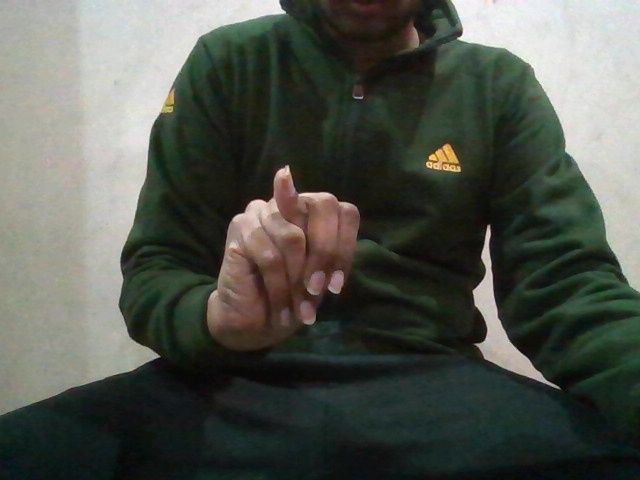N: (212, 163, 363, 338)
